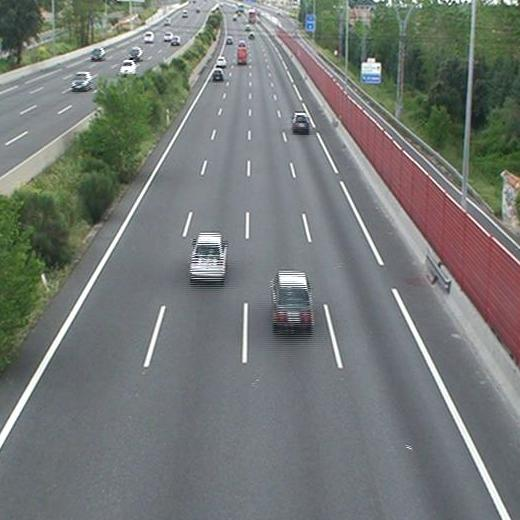car: (273, 272, 313, 326), (189, 233, 226, 280), (292, 113, 309, 132), (213, 69, 224, 81), (216, 57, 226, 66)
van: (237, 47, 247, 64)
